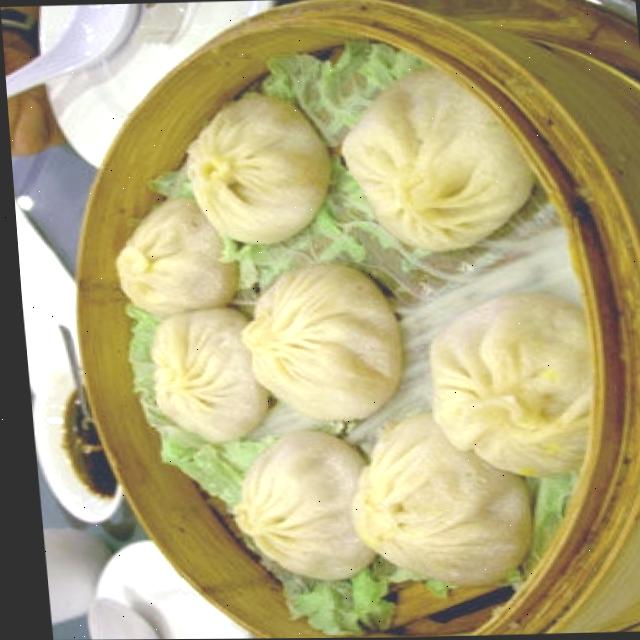带馅早点: (22, 16, 640, 640)
